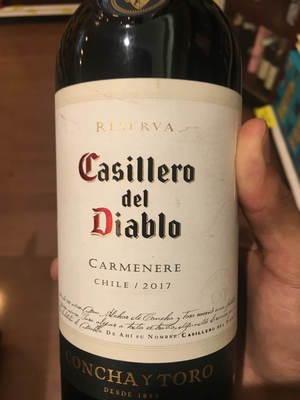casillero del diablo carmenere: (54, 5, 252, 400)
